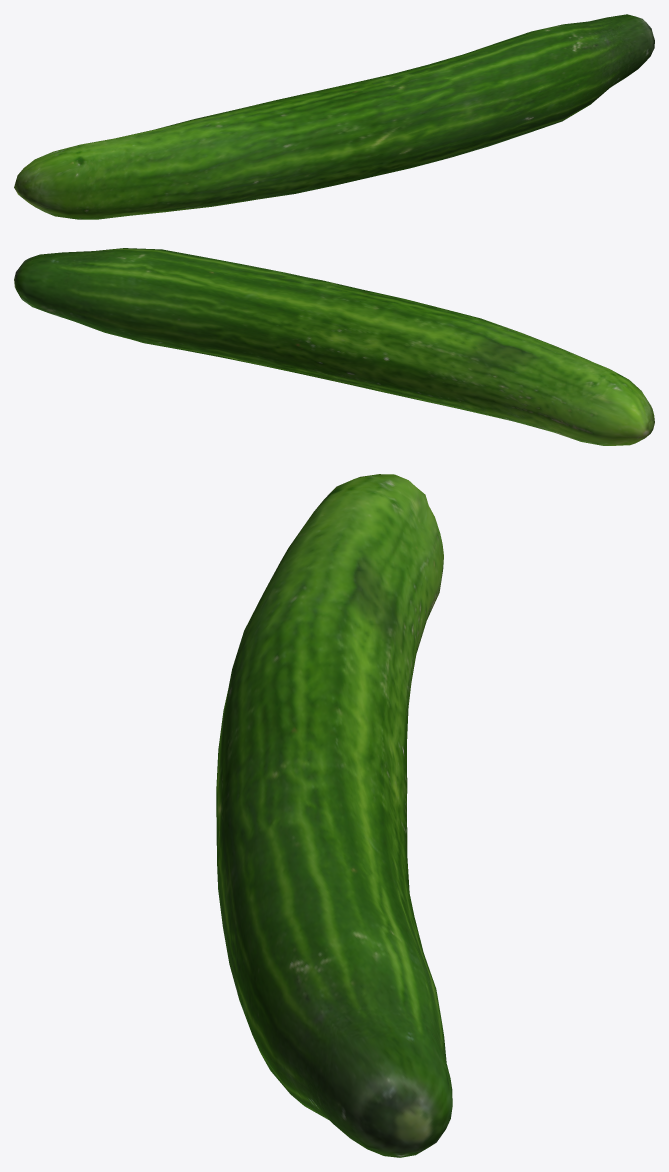
Rendered from cucumber--game-ready---2k-pbr-389e61.glb.
3 views of the same model, one above another, from view 1: azimuth 30°, elevation 25°; view 2: azimuth 150°, elevation 25°; view 3: azimuth 270°, elevation 25° (orthographic). The views are drawn at different scales.
Parts seen in each view (by area): view 1: PropMesh; view 2: PropMesh; view 3: PropMesh.
Boxes of the visible parts, x1=… form: PropMesh: x1=14, y1=14, x2=654, y2=219; PropMesh: x1=14, y1=248, x2=654, y2=445; PropMesh: x1=216, y1=474, x2=452, y2=1157.
Bounding box in the file's own units: 0.3 × 0.0407 × 0.0486.
1 material, 1 textured.
